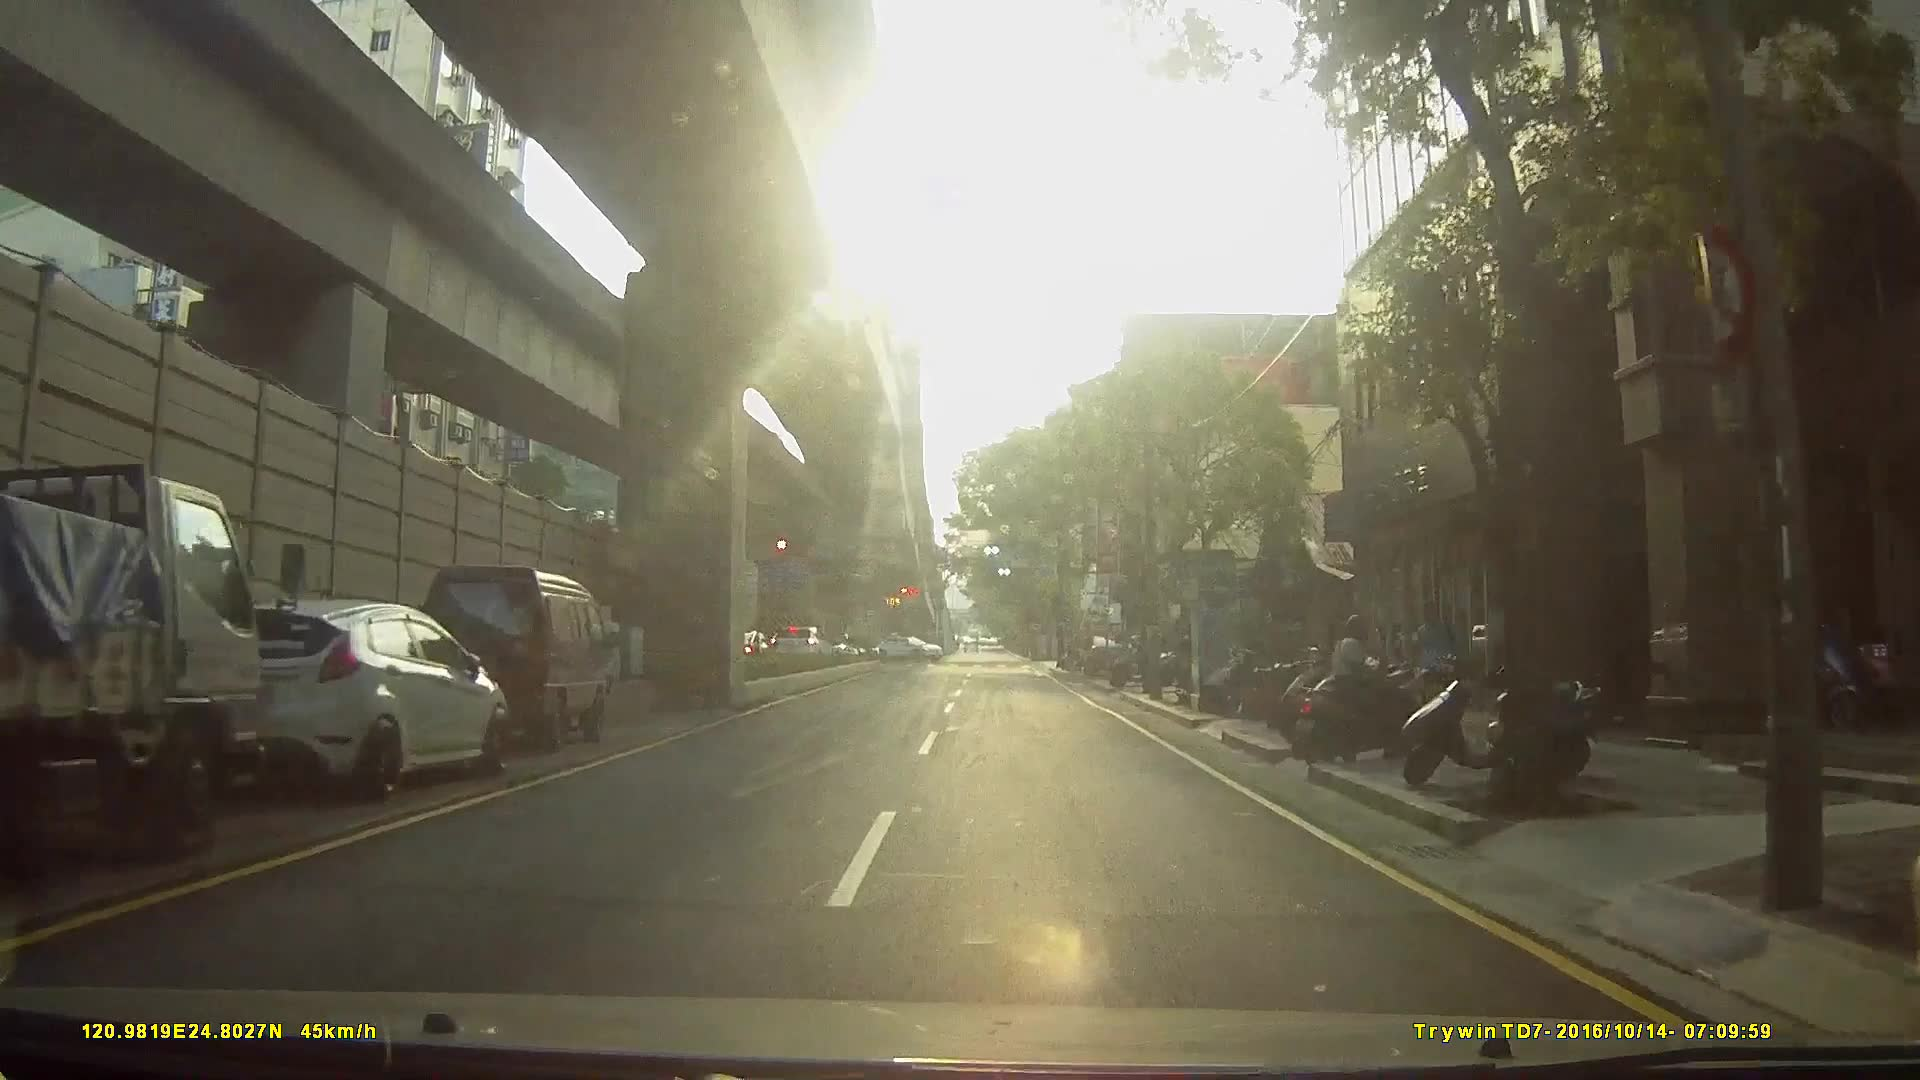pedestrian: (1405, 597, 1460, 729)
rider: (1292, 607, 1440, 764)
vehicle: (1, 449, 327, 878), (199, 581, 520, 804), (401, 555, 615, 753), (767, 622, 835, 665), (1077, 631, 1125, 674), (875, 631, 943, 659)
